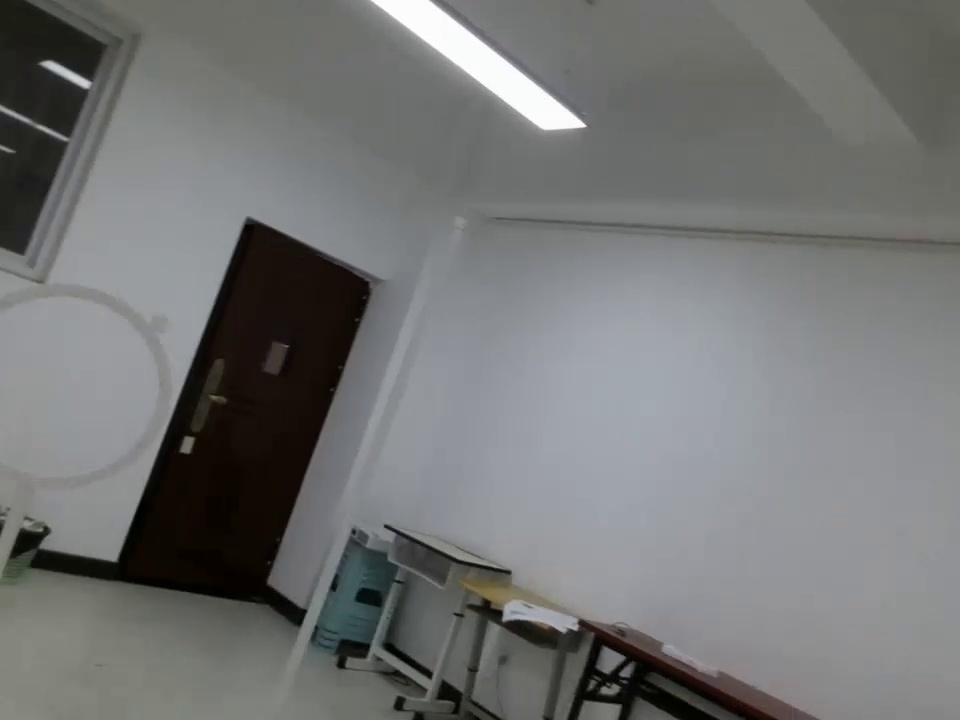quan: (1, 278, 176, 495)
